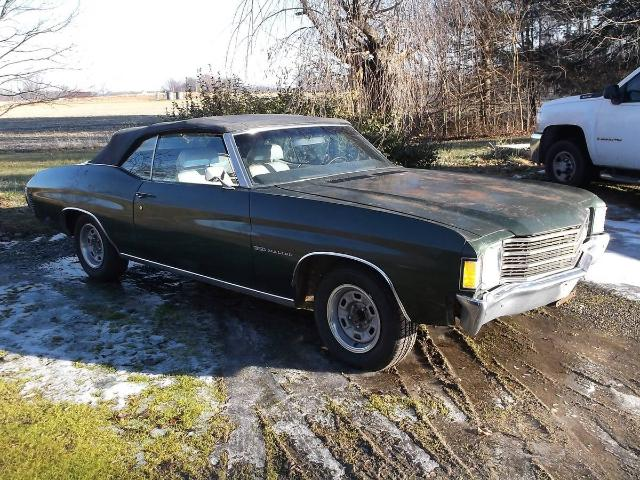chevelle-1972: (25, 115, 609, 370)
